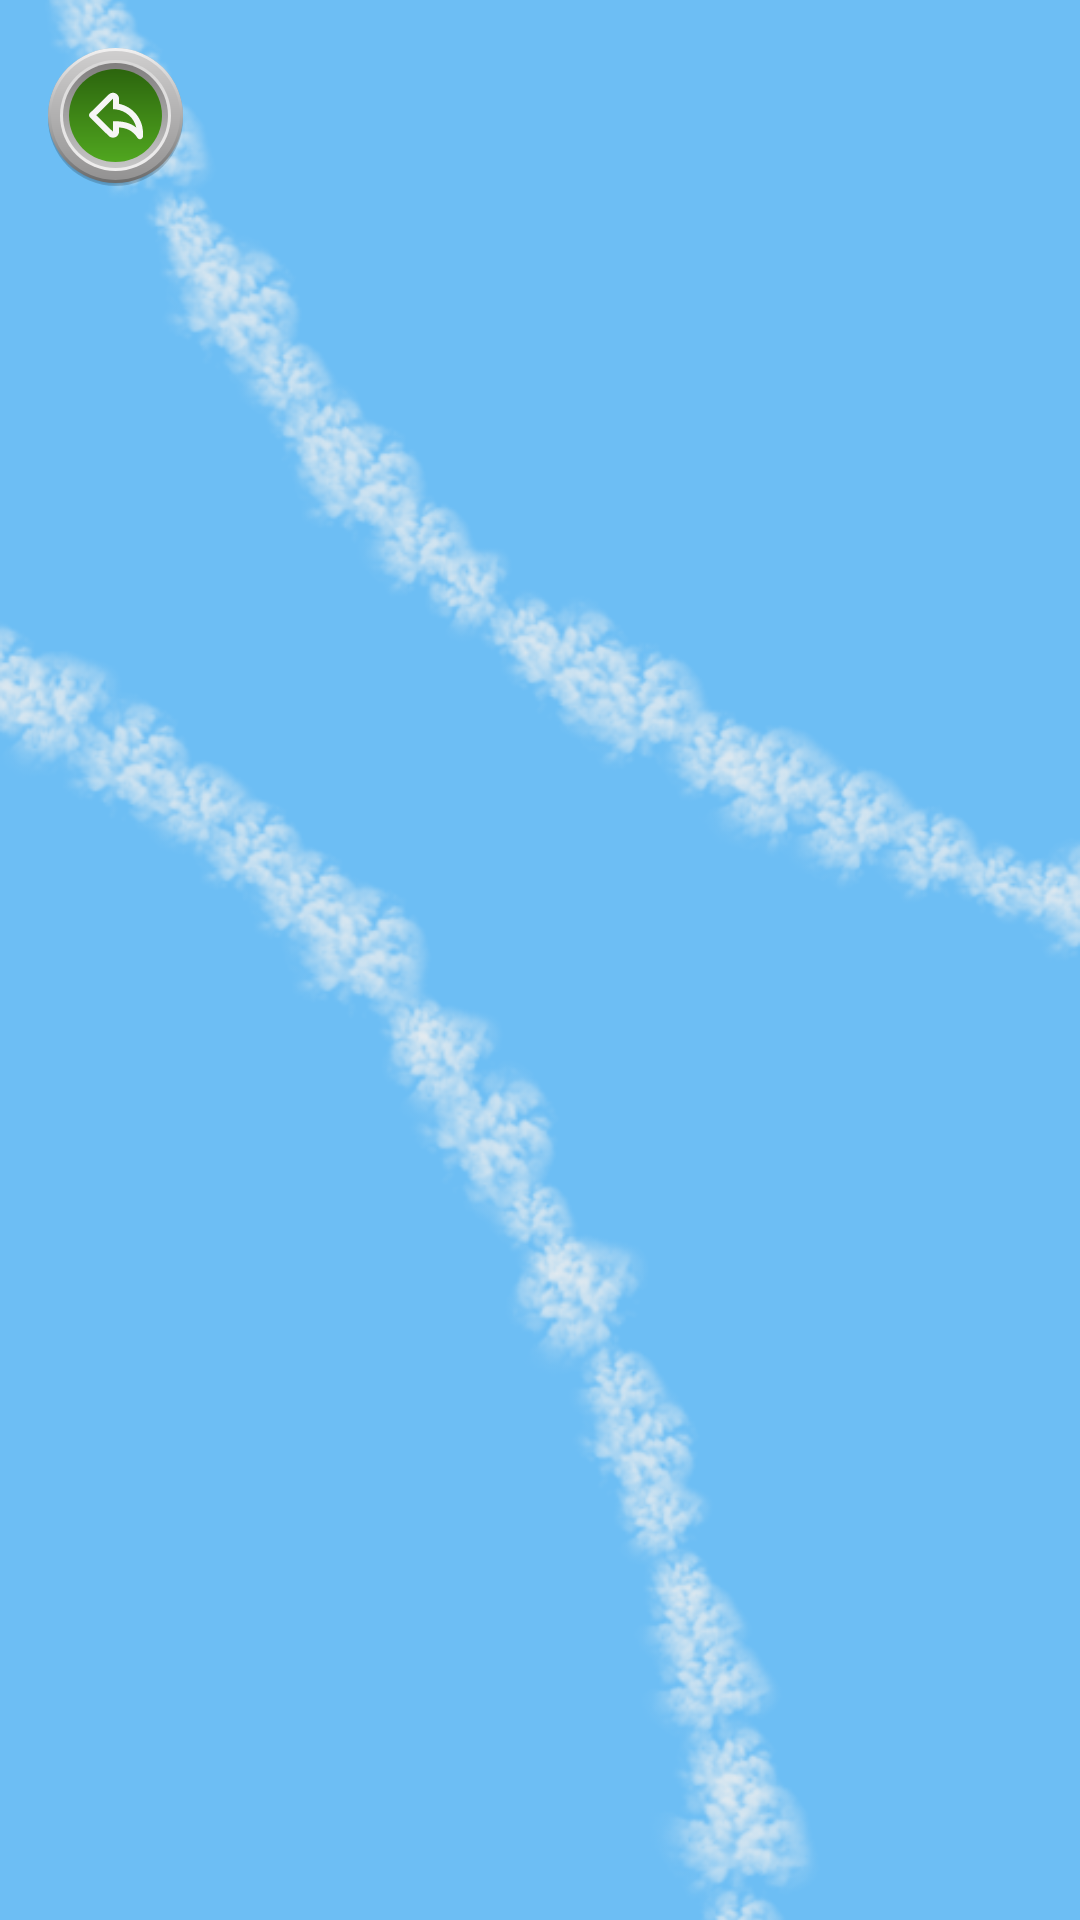

Screen size 1080px×1920px. Icon name, then its center in pixels as (x=x, y=y):
backarrow: (x=115, y=115)
